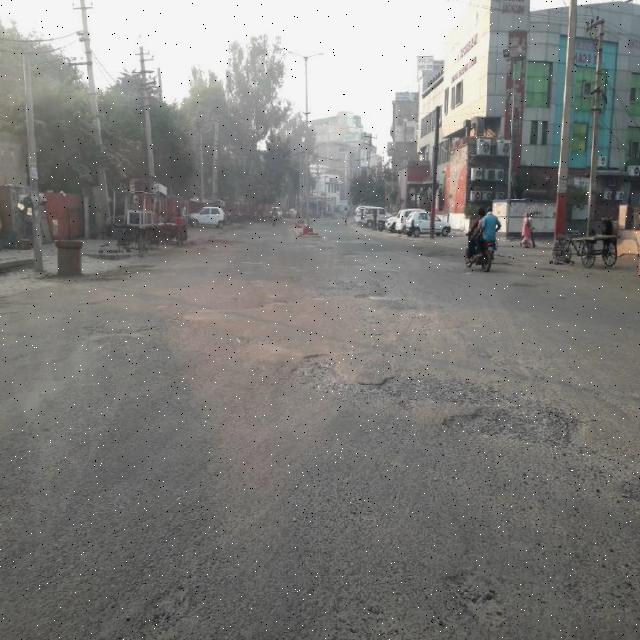D40: (93, 525, 640, 639), (288, 354, 640, 485)
